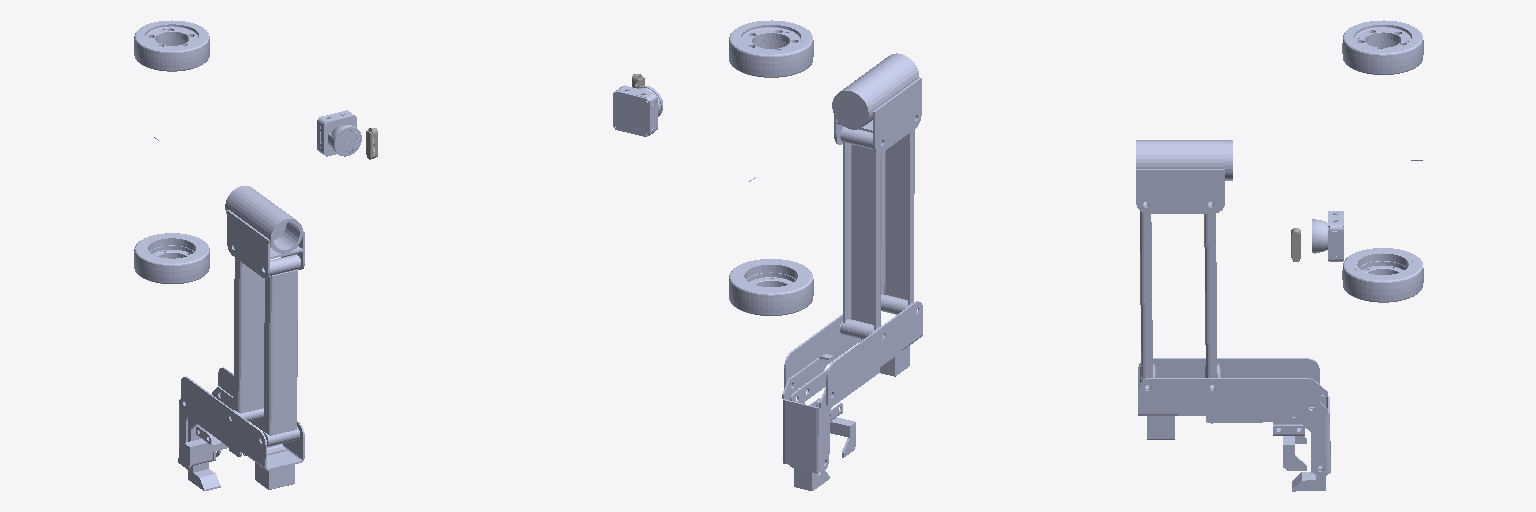
robot.urdf — tugging_robot_180424:
<?xml version="1.0" encoding="utf-8"?>
<!-- This URDF was automatically created by SolidWorks to URDF Exporter! Originally created by [author] ([email redacted]) 
     Commit Version: 1.6.0-4-g7f85cfe  Build Version: 1.6.7995.38578
     For more information, please see http://wiki.ros.org/sw_urdf_exporter -->
<robot
  name="tugging_robot_180424">
  <link
    name="base_footprint">
    <inertial>
      <origin
        xyz="0.37604510422057 -0.514118629559392 0.491738842732967"
        rpy="0 0 0" />
      <mass
        value="9.42477796076939E-05" />
      <inertia
        ixx="7.09214541547897E-09"
        ixy="2.73196242009685E-42"
        ixz="9.906227054135E-57"
        iyy="4.71238898038469E-11"
        iyz="-2.50590244827871E-23"
        izz="7.09214541547897E-09" />
    </inertial>
    <visual>
      <origin
        xyz="0 0 0"
        rpy="0 0 0" />
      <geometry>
        <mesh
          filename="package://tugging_robot_180424/meshes/base_footprint.STL" />
      </geometry>
      <material
        name="">
        <color
          rgba="0.792156862745098 0.819607843137255 0.933333333333333 1" />
      </material>
    </visual>
    <collision>
      <origin
        xyz="0 0 0"
        rpy="0 0 0" />
      <geometry>
        <mesh
          filename="package://tugging_robot_180424/meshes/base_footprint.STL" />
      </geometry>
    </collision>
  </link>
  <link
    name="base_link">
    <inertial>
      <origin
        xyz="-0.335884627605358 -0.154550867031115 0.304173621141353"
        rpy="0 0 0" />
      <mass
        value="63.3125993687624" />
      <inertia
        ixx="1.39798949596627"
        ixy="-2.30154185529599E-05"
        ixz="-0.0321482845775185"
        iyy="1.89673501821718"
        iyz="1.56337588373965E-06"
        izz="2.99578841352887" />
    </inertial>
    <visual>
      <origin
        xyz="0 0 0"
        rpy="0 0 0" />
      <geometry>
        <mesh
          filename="package://tugging_robot_180424/meshes/base_link.STL" />
      </geometry>
      <material
        name="">
        <color
          rgba="0.792156862745098 0.819607843137255 0.933333333333333 1" />
      </material>
    </visual>
    <collision>
      <origin
        xyz="0 0 0"
        rpy="0 0 0" />
      <geometry>
        <mesh
          filename="package://tugging_robot_180424/meshes/base_link.STL" />
      </geometry>
    </collision>
  </link>
  <joint
    name="base_joint"
    type="continuous">
    <origin
      xyz="0.70895 -0.48043 0.63729"
      rpy="1.5708 0 0" />
    <parent
      link="base_footprint" />
    <child
      link="base_link" />
    <axis
      xyz="0 0 1" />
  </joint>
  <link
    name="l_wheel_link">
    <inertial>
      <origin
        xyz="-1.57612672913032E-08 -1.62170643580595E-08 -0.643571051501876"
        rpy="0 0 0" />
      <mass
        value="1.21637691245054" />
      <inertia
        ixx="0.00444155589758772"
        ixy="-4.35090664321164E-07"
        ixz="-4.92688328788217E-11"
        iyy="0.00444462449486404"
        iyz="-7.37001938686615E-11"
        izz="0.00822574300590289" />
    </inertial>
    <visual>
      <origin
        xyz="0 0 0"
        rpy="0 0 0" />
      <geometry>
        <mesh
          filename="package://tugging_robot_180424/meshes/l_wheel_link.STL" />
      </geometry>
      <material
        name="">
        <color
          rgba="0.792156862745098 0.819607843137255 0.933333333333333 1" />
      </material>
    </visual>
    <collision>
      <origin
        xyz="0 0 0"
        rpy="0 0 0" />
      <geometry>
        <mesh
          filename="package://tugging_robot_180424/meshes/l_wheel_link.STL" />
      </geometry>
    </collision>
  </link>
  <joint
    name="l_wheel_joint"
    type="continuous">
    <origin
      xyz="-0.335 -0.48237 0.11759"
      rpy="1.5708 0 0" />
    <parent
      link="base_link" />
    <child
      link="l_wheel_link" />
    <axis
      xyz="0 0 -1" />
  </joint>
  <link
    name="r_wheel_link">
    <inertial>
      <origin
        xyz="-1.545270883474E-08 1.65109973471189E-08 0.643571051501878"
        rpy="0 0 0" />
      <mass
        value="1.21637691245054" />
      <inertia
        ixx="0.00444157336991457"
        ixy="4.92558766137497E-07"
        ixz="4.78721951208322E-11"
        iyy="0.00444460702253749"
        iyz="-7.46149579840556E-11"
        izz="0.00822574300590317" />
    </inertial>
    <visual>
      <origin
        xyz="0 0 0"
        rpy="0 0 0" />
      <geometry>
        <mesh
          filename="package://tugging_robot_180424/meshes/r_wheel_link.STL" />
      </geometry>
      <material
        name="">
        <color
          rgba="0.792156862745098 0.819607843137255 0.933333333333333 1" />
      </material>
    </visual>
    <collision>
      <origin
        xyz="0 0 0"
        rpy="0 0 0" />
      <geometry>
        <mesh
          filename="package://tugging_robot_180424/meshes/r_wheel_link.STL" />
      </geometry>
    </collision>
  </link>
  <joint
    name="r_wheel_joint"
    type="continuous">
    <origin
      xyz="-0.335 0.18237 0.11759"
      rpy="1.5708 0 0" />
    <parent
      link="base_link" />
    <child
      link="r_wheel_link" />
    <axis
      xyz="0 0 1" />
  </joint>
  <link
    name="laser_link">
    <inertial>
      <origin
        xyz="-7.87527844763325E-05 4.47134762873724E-05 -0.0452078493000595"
        rpy="0 0 0" />
      <mass
        value="0.592499701933033" />
      <inertia
        ixx="0.000708574675866019"
        ixy="-1.31490961071949E-06"
        ixz="1.59540554304263E-06"
        iyy="0.000706641984916019"
        iyz="3.80090317212918E-07"
        izz="0.000809305848041579" />
    </inertial>
    <visual>
      <origin
        xyz="0 0 0"
        rpy="0 0 0" />
      <geometry>
        <mesh
          filename="package://tugging_robot_180424/meshes/laser_link.STL" />
      </geometry>
      <material
        name="">
        <color
          rgba="0.792156862745098 0.819607843137255 0.933333333333333 1" />
      </material>
    </visual>
    <collision>
      <origin
        xyz="0 0 0"
        rpy="0 0 0" />
      <geometry>
        <mesh
          filename="package://tugging_robot_180424/meshes/laser_link.STL" />
      </geometry>
    </collision>
  </link>
  <joint
    name="laser_joint"
    type="fixed">
    <origin
      xyz="0.10254 -0.15013 0.29248"
      rpy="0 0 0" />
    <parent
      link="base_link" />
    <child
      link="laser_link" />
    <axis
      xyz="0 0 0" />
  </joint>
  <link
    name="camera_link">
    <inertial>
      <origin
        xyz="-0.013292515939243 -0.00140808783756924 2.34189943303376E-05"
        rpy="0 0 0" />
      <mass
        value="0.0364739724445588" />
      <inertia
        ixx="2.34049523651578E-05"
        ixy="-2.10673542929437E-07"
        ixz="-1.01438529263964E-08"
        iyy="3.50644426420605E-06"
        iyz="1.66486973002209E-09"
        izz="2.36133142422633E-05" />
    </inertial>
    <visual>
      <origin
        xyz="0 0 0"
        rpy="0 0 0" />
      <geometry>
        <mesh
          filename="package://tugging_robot_180424/meshes/camera_link.STL" />
      </geometry>
      <material
        name="">
        <color
          rgba="0.701960784313725 0.701960784313725 0.701960784313725 1" />
      </material>
    </visual>
    <collision>
      <origin
        xyz="0 0 0"
        rpy="0 0 0" />
      <geometry>
        <mesh
          filename="package://tugging_robot_180424/meshes/camera_link.STL" />
      </geometry>
    </collision>
  </link>
  <joint
    name="camera_joint"
    type="prismatic">
    <origin
      xyz="0.165 -0.1503 0.33308"
      rpy="0 0 0" />
    <parent
      link="base_link" />
    <child
      link="camera_link" />
    <axis
      xyz="0 1 0" />
    <limit
      lower="0"
      upper="0"
      effort="0"
      velocity="0" />
  </joint>
  <link
    name="tug_arm">
    <inertial>
      <origin
        xyz="-0.125825408461826 0.000398547767637092 0.118154365820545"
        rpy="0 0 0" />
      <mass
        value="2.99031237688667" />
      <inertia
        ixx="0.00963384959193131"
        ixy="3.03147034694653E-05"
        ixz="-0.000103328651592502"
        iyy="0.0192044004447118"
        iyz="3.27290043692314E-07"
        izz="0.015469117073092" />
    </inertial>
    <visual>
      <origin
        xyz="0 0 0"
        rpy="0 0 0" />
      <geometry>
        <mesh
          filename="package://tugging_robot_180424/meshes/tug_arm.STL" />
      </geometry>
      <material
        name="">
        <color
          rgba="0.792156862745098 0.819607843137255 0.933333333333333 1" />
      </material>
    </visual>
    <collision>
      <origin
        xyz="0 0 0"
        rpy="0 0 0" />
      <geometry>
        <mesh
          filename="package://tugging_robot_180424/meshes/tug_arm.STL" />
      </geometry>
    </collision>
  </link>
  <joint
    name="tug_joint"
    type="revolute">
    <origin
      xyz="-0.337 -0.148 0.48859"
      rpy="0 0 0" />
    <parent
      link="base_link" />
    <child
      link="tug_arm" />
    <axis
      xyz="0 0 -1" />
    <limit
      lower="-1.57"
      upper="-1.57"
      effort="1"
      velocity="1" />
  </joint>
  <link
    name="latch_arm_1">
    <inertial>
      <origin
        xyz="0.101970582494417 -0.281908367693301 0.000509513609222356"
        rpy="0 0 0" />
      <mass
        value="1.11762468977809" />
      <inertia
        ixx="0.0131157183639058"
        ixy="0.000512009296855838"
        ixz="5.37844480423958E-17"
        iyy="0.00379278151072832"
        iyz="2.2865613631238E-16"
        izz="0.0128453795020564" />
    </inertial>
    <visual>
      <origin
        xyz="0 0 0"
        rpy="0 0 0" />
      <geometry>
        <mesh
          filename="package://tugging_robot_180424/meshes/latch_arm_1.STL" />
      </geometry>
      <material
        name="">
        <color
          rgba="0.792156862745098 0.819607843137255 0.933333333333333 1" />
      </material>
    </visual>
    <collision>
      <origin
        xyz="0 0 0"
        rpy="0 0 0" />
      <geometry>
        <mesh
          filename="package://tugging_robot_180424/meshes/latch_arm_1.STL" />
      </geometry>
    </collision>
  </link>
  <joint
    name="latch_joint"
    type="revolute">
    <origin
      xyz="-0.59502 0.0018847 0.21595"
      rpy="1.5708 0.0092813 3.1384" />
    <parent
      link="tug_arm" />
    <child
      link="latch_arm_1" />
    <axis
      xyz="0 0 1" />
    <limit
      lower="-1.57"
      upper="1.57"
      effort="1"
      velocity="1" />
  </joint>
  <link
    name="sick_visionary_t_mini">
    <inertial>
      <origin
        xyz="0.0339163657392 -0.000107428950336164 2.0961010704923E-13"
        rpy="0 0 0" />
      <mass
        value="0.381714717449703" />
      <inertia
        ixx="0.000360198143513246"
        ixy="-1.77819692897352E-07"
        ixz="-1.10366217846385E-14"
        iyy="0.000304059288577003"
        iyz="-4.25448193874938E-12"
        izz="0.000351824737844585" />
    </inertial>
    <visual>
      <origin
        xyz="0 0 0"
        rpy="0 0 0" />
      <geometry>
        <mesh
          filename="package://tugging_robot_180424/meshes/sick_visionary_t_mini.STL" />
      </geometry>
      <material
        name="">
        <color
          rgba="0.792156862745098 0.819607843137255 0.933333333333333 1" />
      </material>
    </visual>
    <collision>
      <origin
        xyz="0 0 0"
        rpy="0 0 0" />
      <geometry>
        <mesh
          filename="package://tugging_robot_180424/meshes/sick_visionary_t_mini.STL" />
      </geometry>
    </collision>
  </link>
  <joint
    name="sick_joint"
    type="fixed">
    <origin
      xyz="0.1483 -0.036236 -0.003031"
      rpy="1.5708 -0.0031675 -3.1323" />
    <parent
      link="latch_arm_1" />
    <child
      link="sick_visionary_t_mini" />
    <axis
      xyz="0 0 0" />
  </joint>
  <link
    name="latch_arm_2">
    <inertial>
      <origin
        xyz="0.135355606520388 0.00207503341915155 0.0485422109309989"
        rpy="0 0 0" />
      <mass
        value="0.193902776305573" />
      <inertia
        ixx="0.000296867409693318"
        ixy="-7.62218061284695E-07"
        ixz="-4.44000631627541E-06"
        iyy="5.62301648407013E-05"
        iyz="1.40635713231629E-08"
        izz="0.000292136250767118" />
    </inertial>
    <visual>
      <origin
        xyz="0 0 0"
        rpy="0 0 0" />
      <geometry>
        <mesh
          filename="package://tugging_robot_180424/meshes/latch_arm_2.STL" />
      </geometry>
      <material
        name="">
        <color
          rgba="0.792156862745098 0.819607843137255 0.933333333333333 1" />
      </material>
    </visual>
    <collision>
      <origin
        xyz="0 0 0"
        rpy="0 0 0" />
      <geometry>
        <mesh
          filename="package://tugging_robot_180424/meshes/latch_arm_2.STL" />
      </geometry>
    </collision>
  </link>
  <joint
    name="latch_2_joint"
    type="fixed">
    <origin
      xyz="0.30358 -0.40118 0.00099624"
      rpy="1.5708 -0.0031675 -3.1323" />
    <parent
      link="latch_arm_1" />
    <child
      link="latch_arm_2" />
    <axis
      xyz="0 0 0" />
  </joint>
</robot>

--- Facts derived from the render (not from the file) ---
Views: 3 orthographic renders of the robot side by side, from view 1: azimuth 30°, elevation 25°; view 2: azimuth 150°, elevation 25°; view 3: azimuth 270°, elevation 25°.
Robot: tugging_robot_180424 — 10 links, 9 joints (2 revolute, 3 continuous, 1 prismatic, 3 fixed); root link base_footprint; default pose: joints at zero except 1 at the middle of their limits (tug_joint = -1.57).
Visible links, largest first — view 1: tug_arm, latch_arm_1, r_wheel_link, l_wheel_link, laser_link, latch_arm_2, sick_visionary_t_mini; view 2: tug_arm, latch_arm_1, l_wheel_link, r_wheel_link, laser_link, latch_arm_2; view 3: latch_arm_1, tug_arm, r_wheel_link, l_wheel_link, laser_link, latch_arm_2, sick_visionary_t_mini.
Boxes of the visible links, x1,y1,x2,y2 form: tug_arm: (225,186,304,446); latch_arm_1: (179,367,304,490); r_wheel_link: (134,233,209,283); l_wheel_link: (134,20,209,71); laser_link: (317,110,361,156); latch_arm_2: (178,426,241,469); sick_visionary_t_mini: (255,462,294,489); tug_arm: (832,53,921,339); latch_arm_1: (782,301,922,490); l_wheel_link: (729,20,813,77); r_wheel_link: (729,259,813,315); laser_link: (613,85,662,136); latch_arm_2: (810,398,855,457); latch_arm_1: (1138,358,1330,491); tug_arm: (1136,140,1232,389); r_wheel_link: (1342,248,1423,302); l_wheel_link: (1342,20,1423,74); laser_link: (1312,211,1343,261); latch_arm_2: (1273,416,1306,470); sick_visionary_t_mini: (1147,416,1174,439).
Size in the robot's own frame: 0.601 by 0.7124 by 1.23 metres.
Meshes: 10 distinct files referenced, 9 mesh visuals loaded (9 binary STL); not drawn: 1 (reference not matched to a file when rendering).